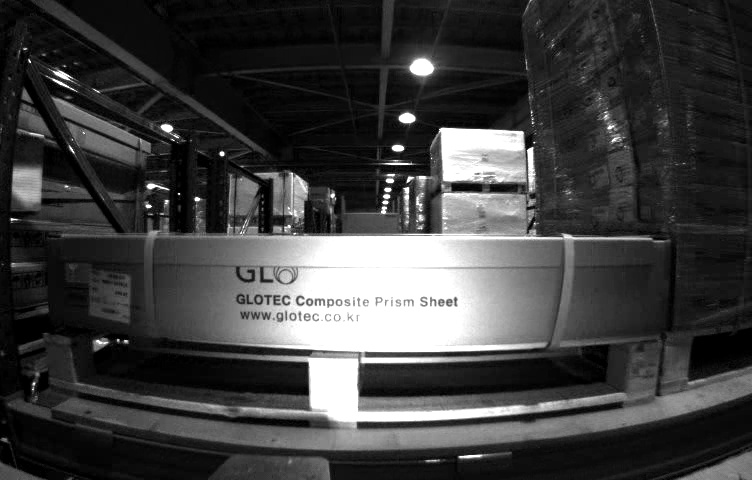True Barcode: (86, 270, 130, 331)
